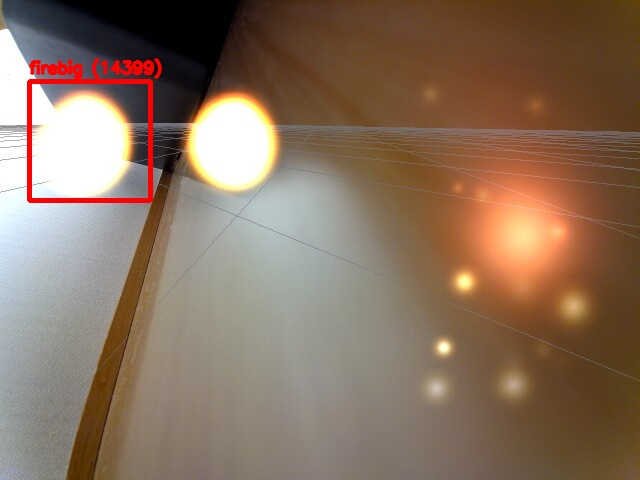firebig: (29, 81, 150, 200)
